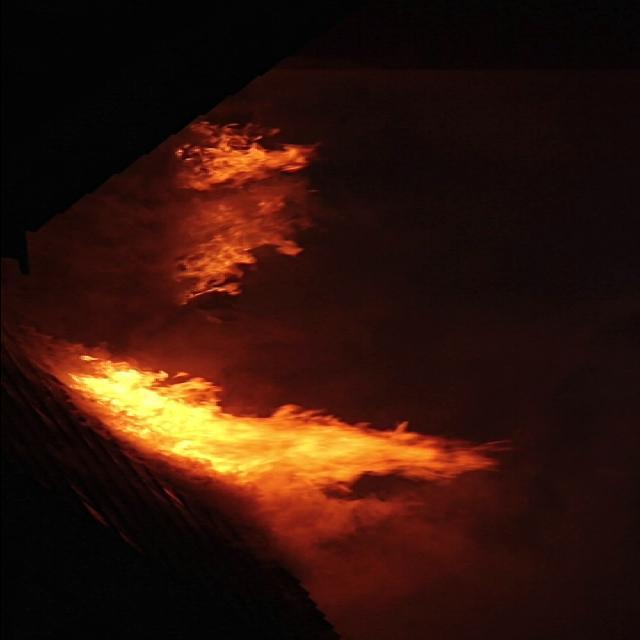Fire: (27, 338, 516, 593), (166, 111, 326, 313)
